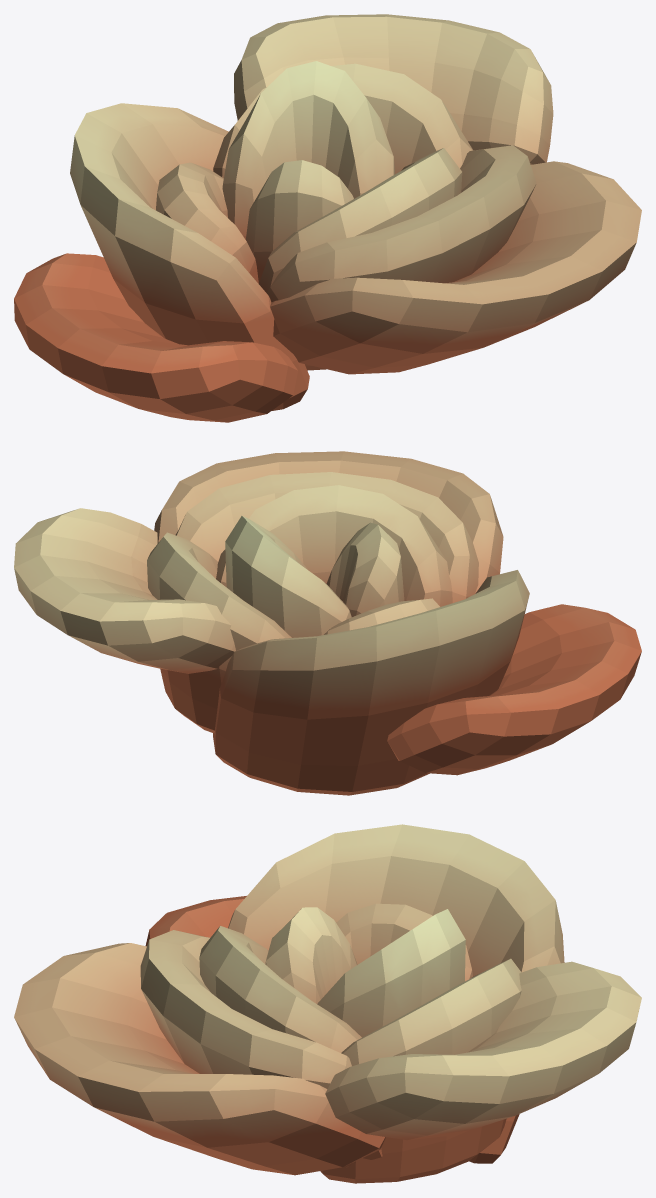
The model's file is Object_Coral_11.fbx.
3 views of the same model, one above another, from view 1: azimuth 30°, elevation 25°; view 2: azimuth 150°, elevation 25°; view 3: azimuth 270°, elevation 25° (orthographic). The views are drawn at different scales.
Visible parts, largest first — view 1: CoralTubes.009; view 2: CoralTubes.009; view 3: CoralTubes.009.
Boxes of the visible parts, <box> form: CoralTubes.009: <box>14,14,641,422</box>; CoralTubes.009: <box>14,451,641,795</box>; CoralTubes.009: <box>14,824,641,1183</box>.
Size of the model in its own units: 341 by 155 by 321.
